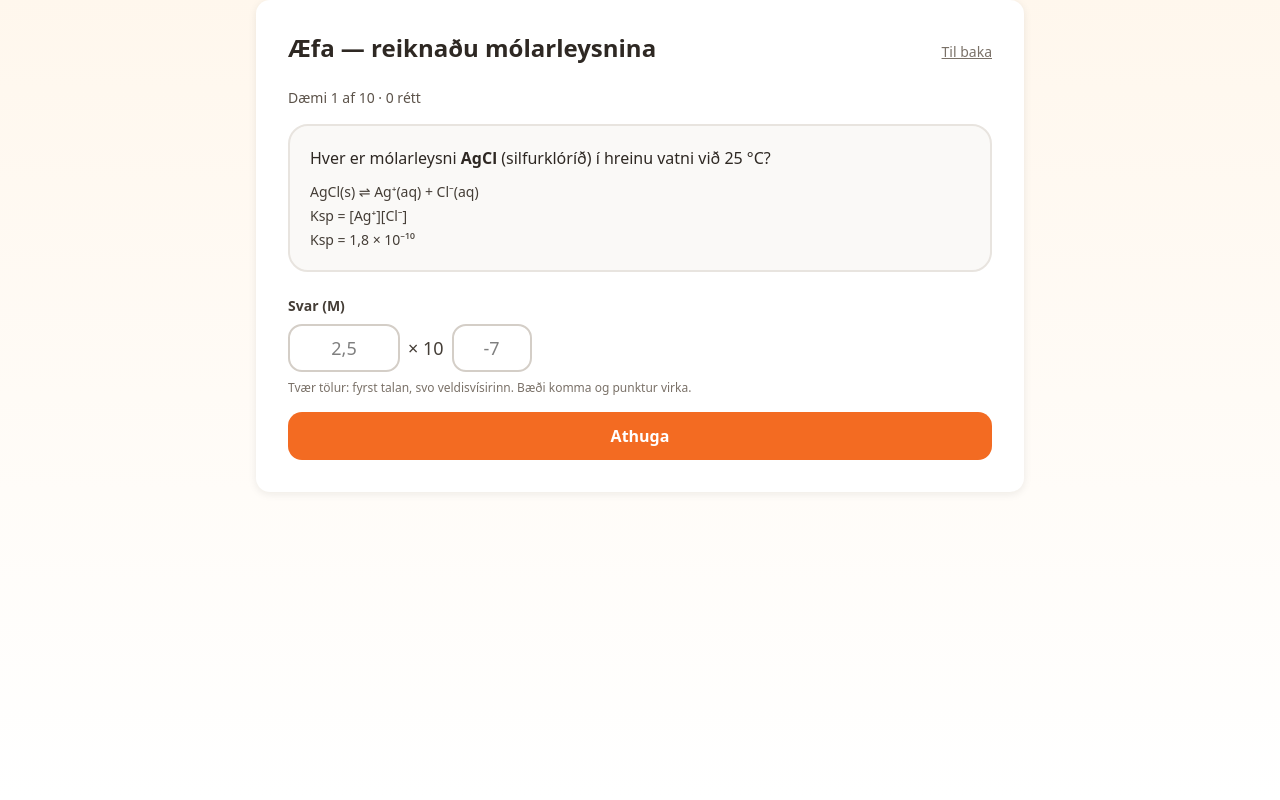
Test case: Æfa › moves focus to the feedback after Athuga, not to Næsta dæmi
The width and height of the screenshot is (1280, 800).
Type "9,9" into the field named "Tala".
click(344, 348); type("9,9")  # box top-left (288, 324), bottom-right (400, 372)
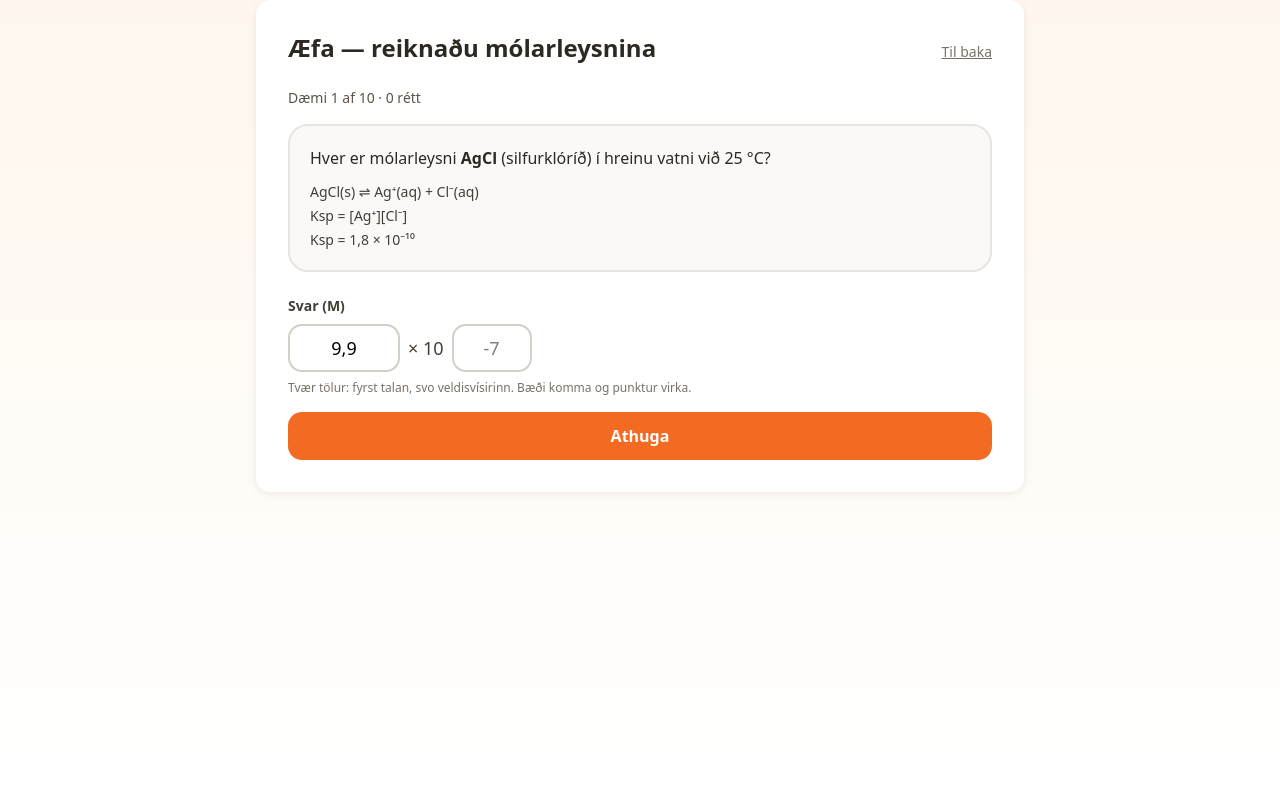
Type "-30" into the field named "Veldisvísir".
click(492, 348); type("-30")  # box top-left (452, 324), bottom-right (532, 372)
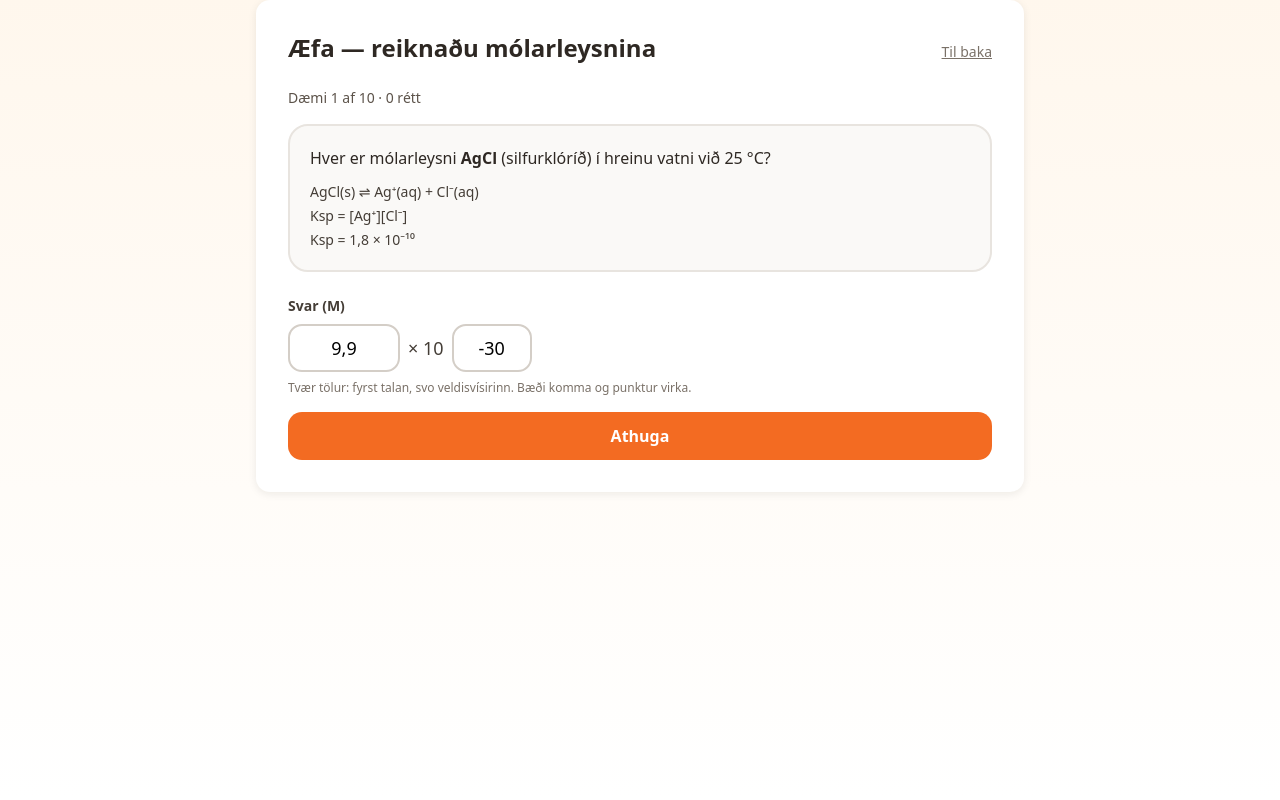
Click the button "Athuga".
click(640, 436)  # box top-left (288, 412), bottom-right (992, 460)
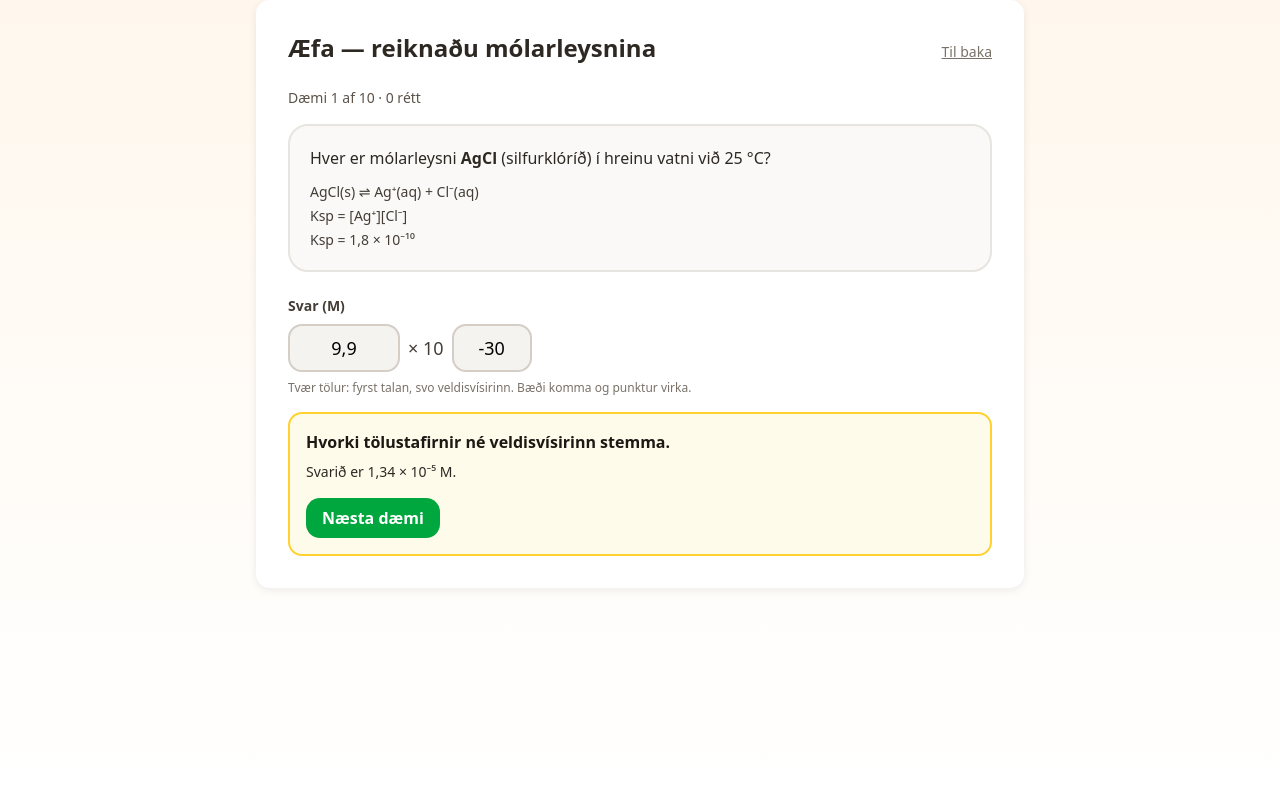
Result: the text "Hvorki tölustafirnir né veldisvísirinn stemma." is shown at top-left (306, 431), bottom-right (670, 453)
